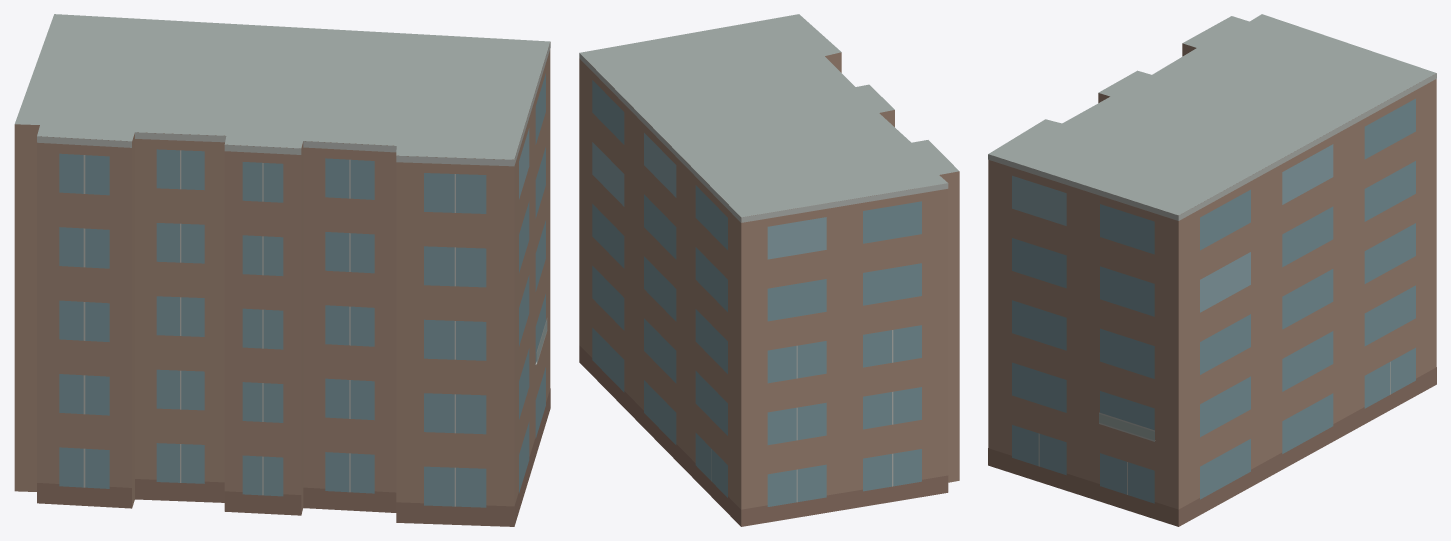
File: survey-upis-32574548.glb
3 views of the same model, side by side, from view 1: azimuth 30°, elevation 25°; view 2: azimuth 150°, elevation 25°; view 3: azimuth 270°, elevation 25° (orthographic). The views are drawn at different scales.
Parts seen in each view (by area): view 1: survey-upis-32574548.tmp; view 2: survey-upis-32574548.tmp; view 3: survey-upis-32574548.tmp.
Part boxes in pixels (box(x1,y1,x2,y2)): survey-upis-32574548.tmp: box(14, 14, 550, 526); survey-upis-32574548.tmp: box(579, 14, 959, 526); survey-upis-32574548.tmp: box(988, 14, 1436, 526).
Bounding box in the file's own units: 18.95 × 13.65 × 17.83.
